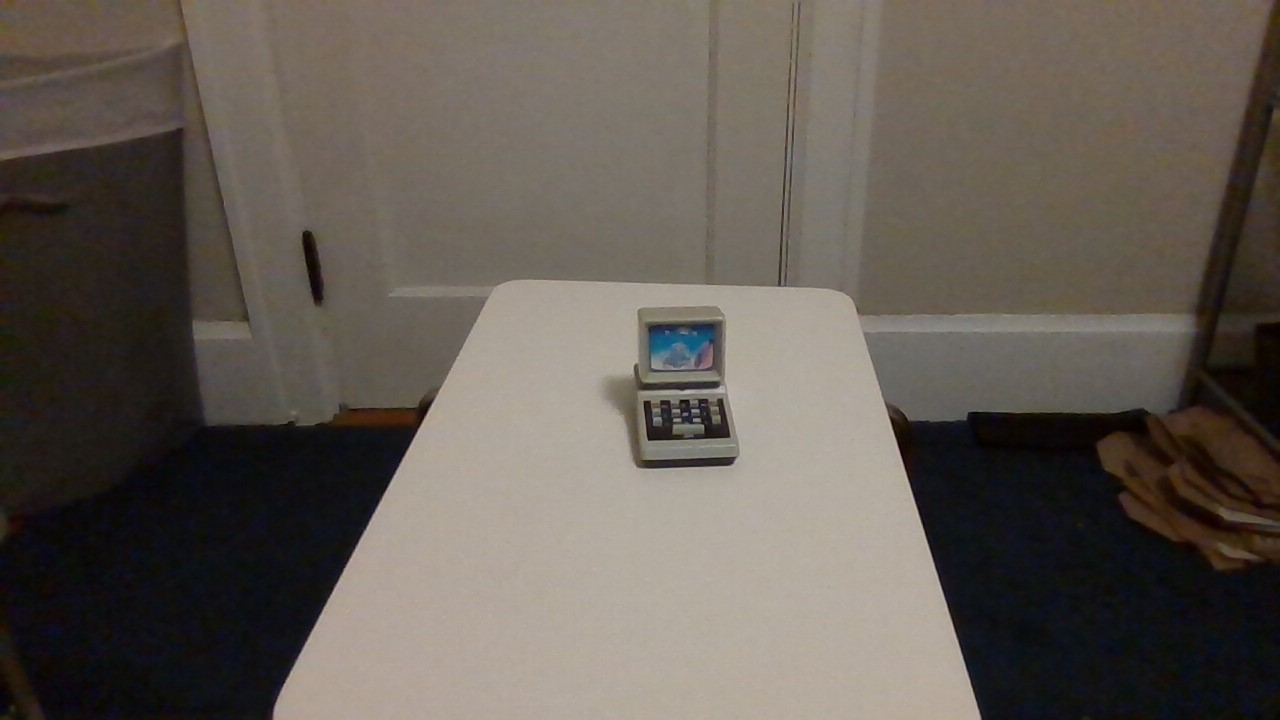Toy: (602, 283, 769, 488)
